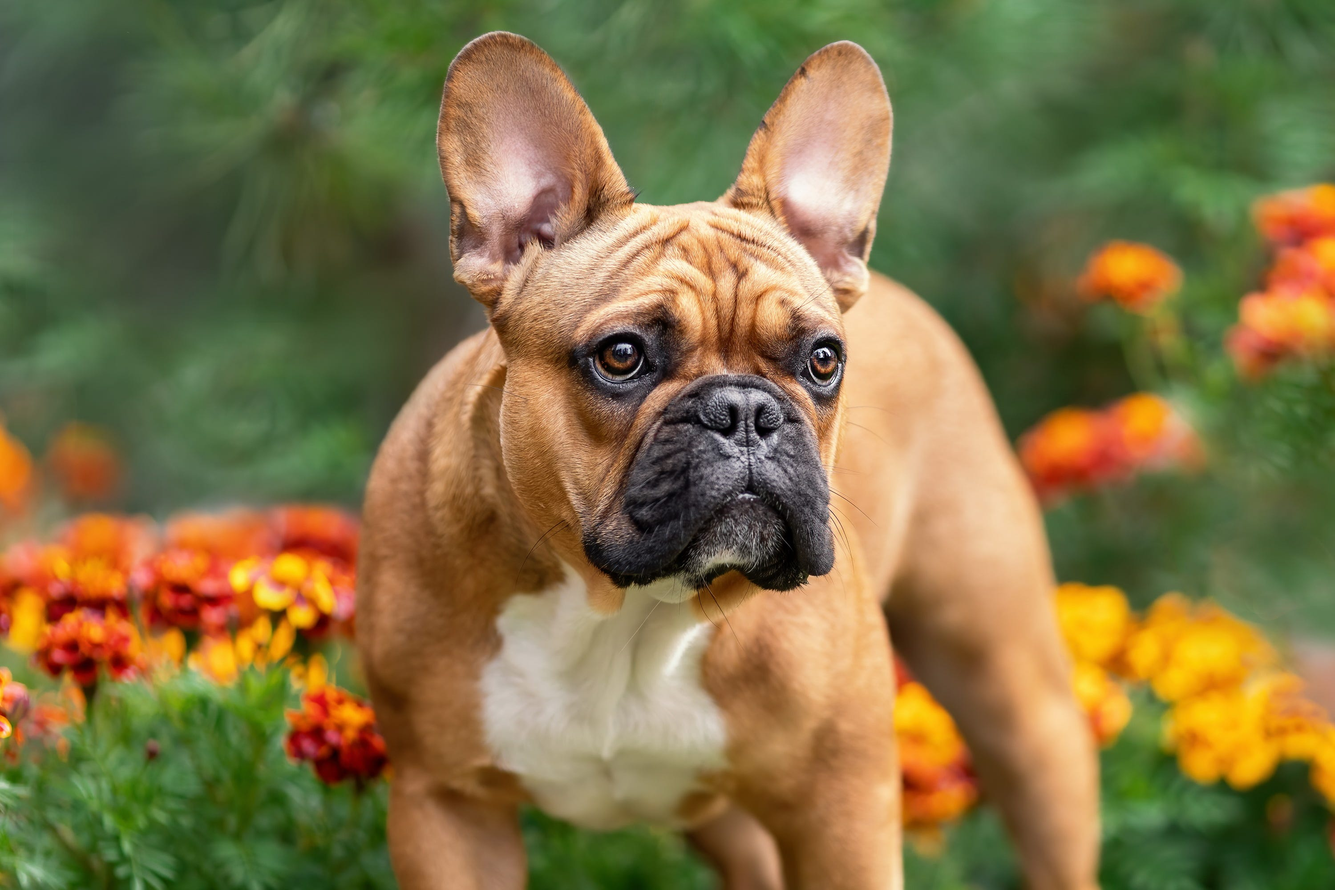Dog: (275, 7, 1153, 884)
